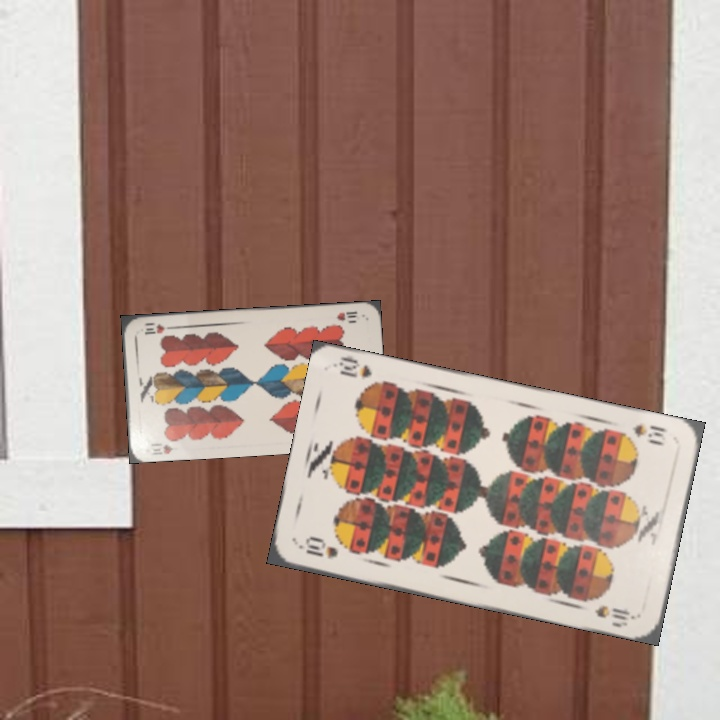H10: (333, 307, 362, 325), (147, 441, 175, 457)
S10: (295, 535, 340, 562), (628, 420, 668, 448)
